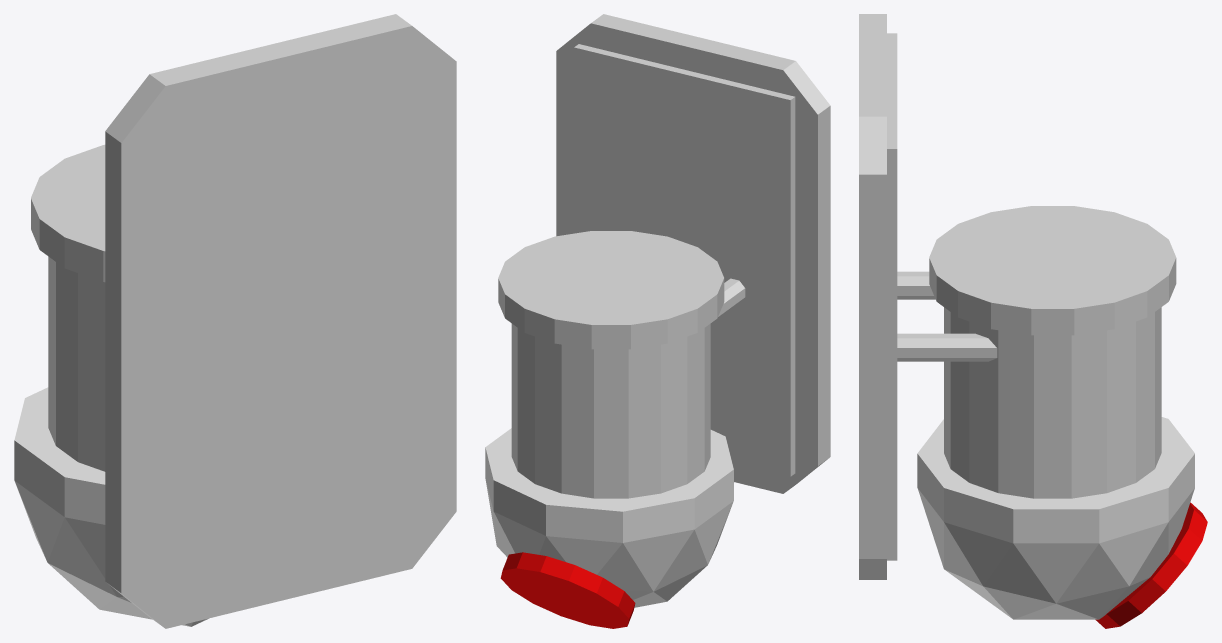
The model's file is TargetCam.fbx.
3 views of the same model, side by side, from view 1: azimuth 30°, elevation 25°; view 2: azimuth 150°, elevation 25°; view 3: azimuth 270°, elevation 25° (orthographic). The views are drawn at different scales.
Parts seen in each view (by area): view 1: CameraHolder, RotatingSphere; view 2: CameraHolder, RotatingSphere; view 3: CameraHolder, RotatingSphere.
Part boxes in pixels (x1,y1,x2,y2): CameraHolder: (31,14,456,628); RotatingSphere: (14,387,208,626); CameraHolder: (498,14,830,498); RotatingSphere: (485,428,733,628); CameraHolder: (859,14,1176,579); RotatingSphere: (917,417,1207,628).
Size of the model in its own units: 563 by 304 by 321.
